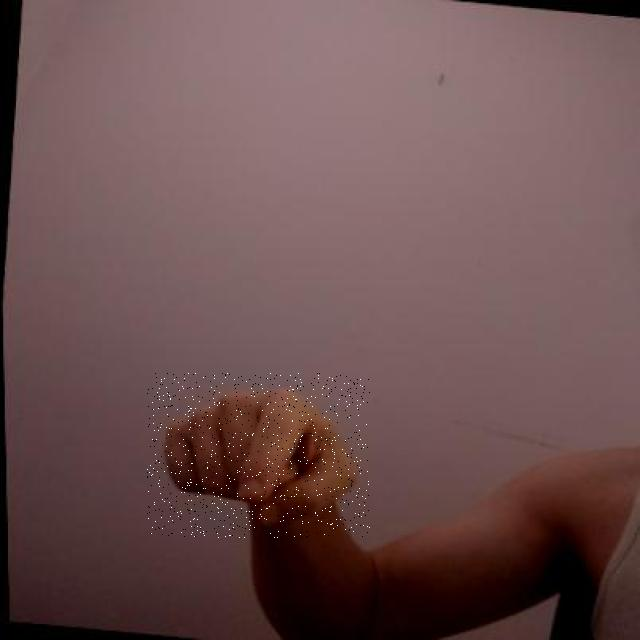Z: (147, 373, 370, 538)
